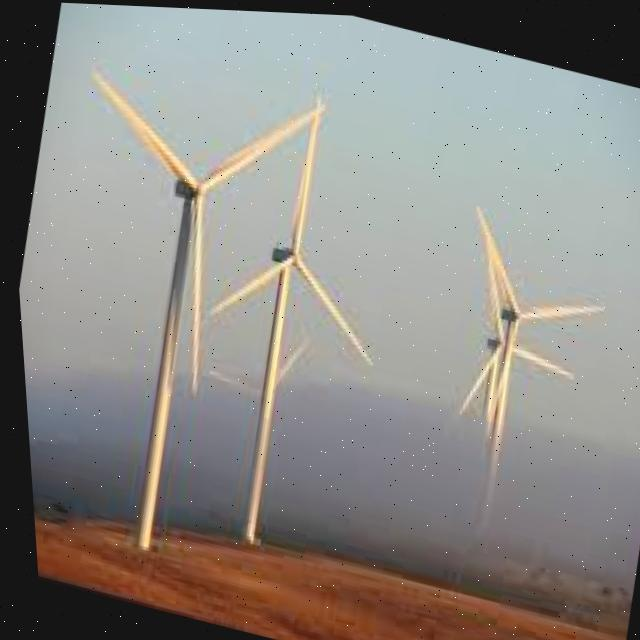solid-blade: (90, 68, 195, 189), (198, 108, 311, 189), (291, 252, 368, 363), (205, 260, 281, 314)
wind-turbine: (91, 69, 310, 548), (206, 93, 367, 541)
